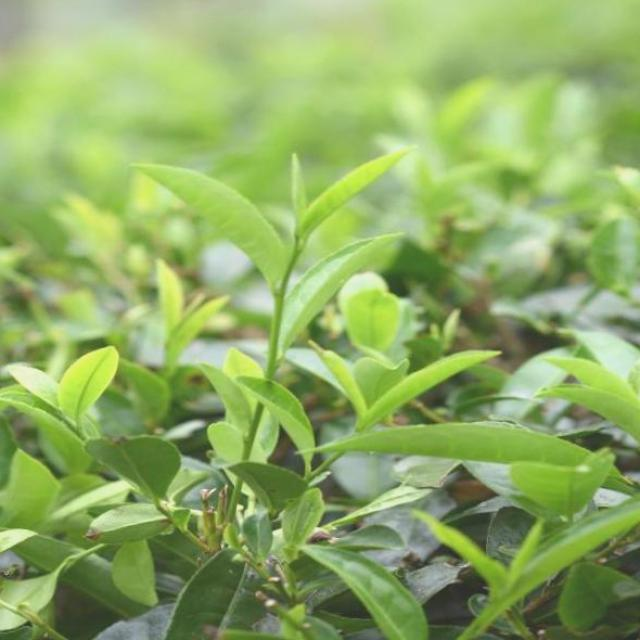Stem: (275, 291, 284, 302)
